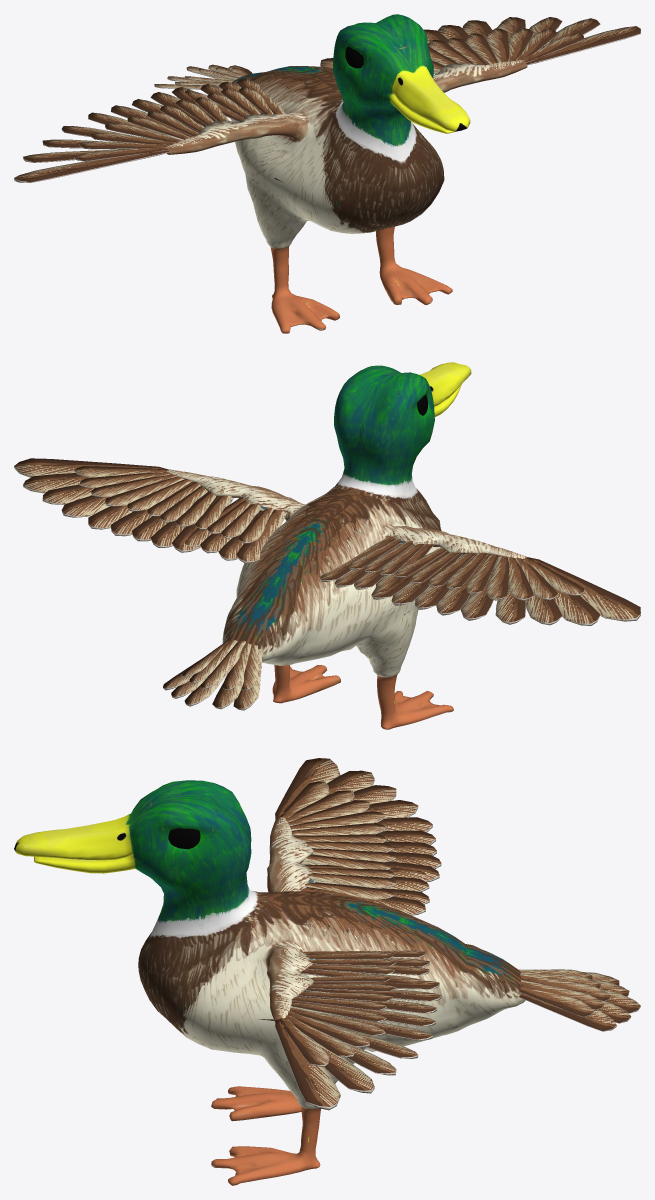
File: ente.glb
3 views of the same model, one above another, from view 1: azimuth 30°, elevation 25°; view 2: azimuth 150°, elevation 25°; view 3: azimuth 270°, elevation 25° (orthographic). The views are drawn at different scales.
Visible parts, largest first — view 1: DuckOBJ, fEATHER.059, fEATHER, fEATHER.046, fEATHER.016, fEATHER.043, fEATHER.045, fEATHER.058, fEATHER.013, fEATHER.044, fEATHER.015, fEATHER.017 (+4 smaller); view 2: DuckOBJ, fEATHER.059, fEATHER, fEATHER.058, fEATHER.011, fEATHER.001, fEATHER.016, fEATHER.057, fEATHER.043, fEATHER.046, fEATHER.054, fEATHER.003 (+30 smaller); view 3: DuckOBJ, fEATHER, fEATHER.059, fEATHER.001, fEATHER.027, fEATHER.013, fEATHER.043, fEATHER.032, fEATHER.016, fEATHER.042, fEATHER.036, fEATHER.015 (+28 smaller).
Part boxes in pixels (x1,y1,x2,y2): DuckOBJ: (166, 14, 527, 333); fEATHER.059: (14, 150, 169, 182); fEATHER: (526, 26, 640, 65); fEATHER.046: (74, 146, 167, 161); fEATHER.016: (486, 28, 508, 62); fEATHER.043: (105, 123, 182, 142); fEATHER.045: (79, 141, 170, 149); fEATHER.058: (23, 149, 123, 162); fEATHER.013: (523, 33, 584, 62); fEATHER.044: (91, 133, 175, 144); fEATHER.015: (508, 28, 533, 61); fEATHER.017: (466, 33, 498, 64); DuckOBJ: (166, 362, 527, 729); fEATHER.059: (527, 557, 640, 621); fEATHER: (14, 458, 168, 477); fEATHER.058: (551, 586, 600, 625); fEATHER.011: (236, 509, 286, 563); fEATHER.001: (23, 473, 94, 493); fEATHER.016: (105, 476, 184, 506); fEATHER.057: (525, 595, 562, 625); fEATHER.043: (486, 556, 508, 600); fEATHER.046: (523, 558, 584, 595); fEATHER.054: (436, 553, 490, 615); fEATHER.003: (61, 495, 109, 517); DuckOBJ: (14, 780, 525, 1185); fEATHER: (275, 1019, 340, 1110); fEATHER.059: (275, 758, 340, 819); fEATHER.001: (314, 1041, 374, 1093); fEATHER.027: (519, 993, 616, 1031); fEATHER.013: (279, 1018, 329, 1066); fEATHER.043: (290, 811, 385, 830); fEATHER.032: (519, 986, 593, 1016); fEATHER.016: (289, 1007, 385, 1035); fEATHER.042: (291, 823, 386, 835); fEATHER.036: (308, 873, 396, 888); fEATHER.015: (288, 1011, 369, 1046).
Size of the model in its own units: 12.23 by 5.68 by 9.3.
62 materials, 61 textured.
